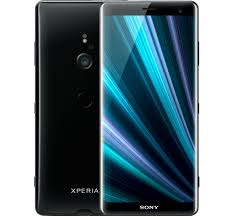sony: (99, 1, 202, 216), (32, 1, 102, 216)
